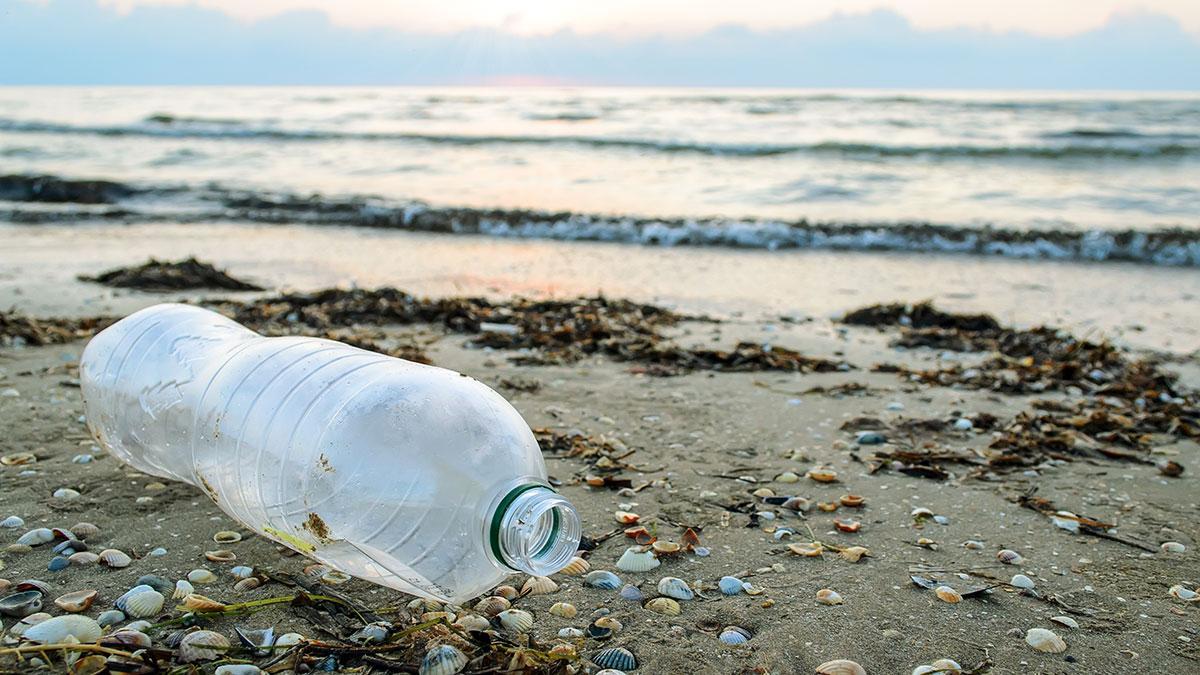bottle: (0, 286, 338, 615)
